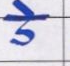e_matra: (11, 1, 36, 15)
